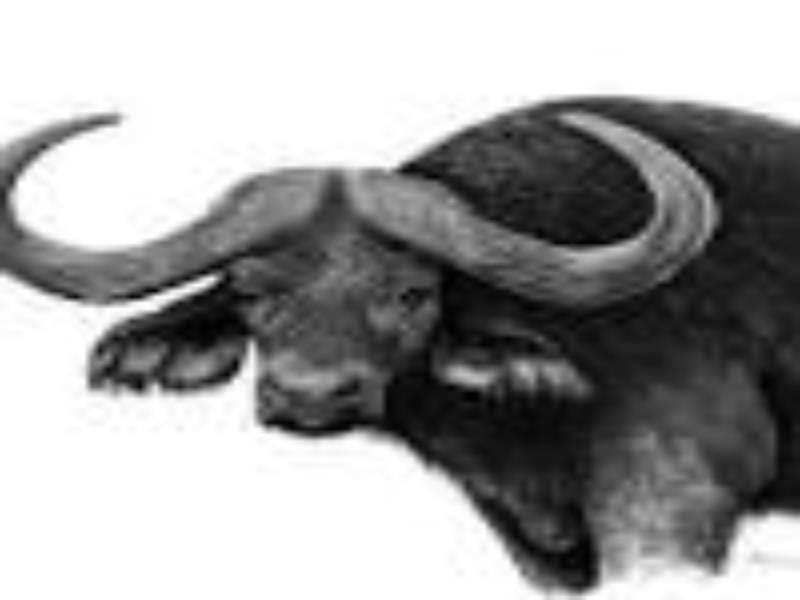buffalo: (21, 89, 782, 573)
